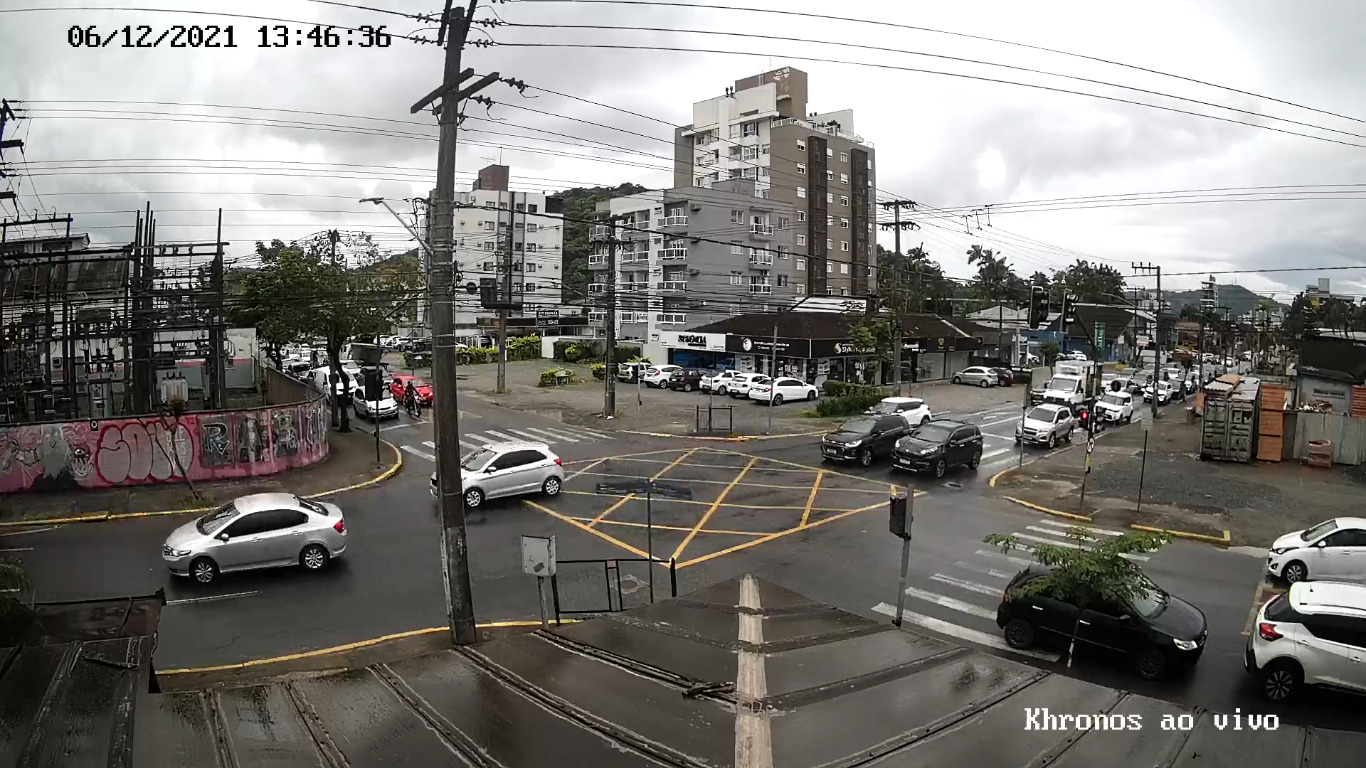car: (996, 562, 1208, 683), (162, 492, 349, 586), (1245, 581, 1366, 703), (430, 441, 565, 507), (1267, 517, 1366, 584)
